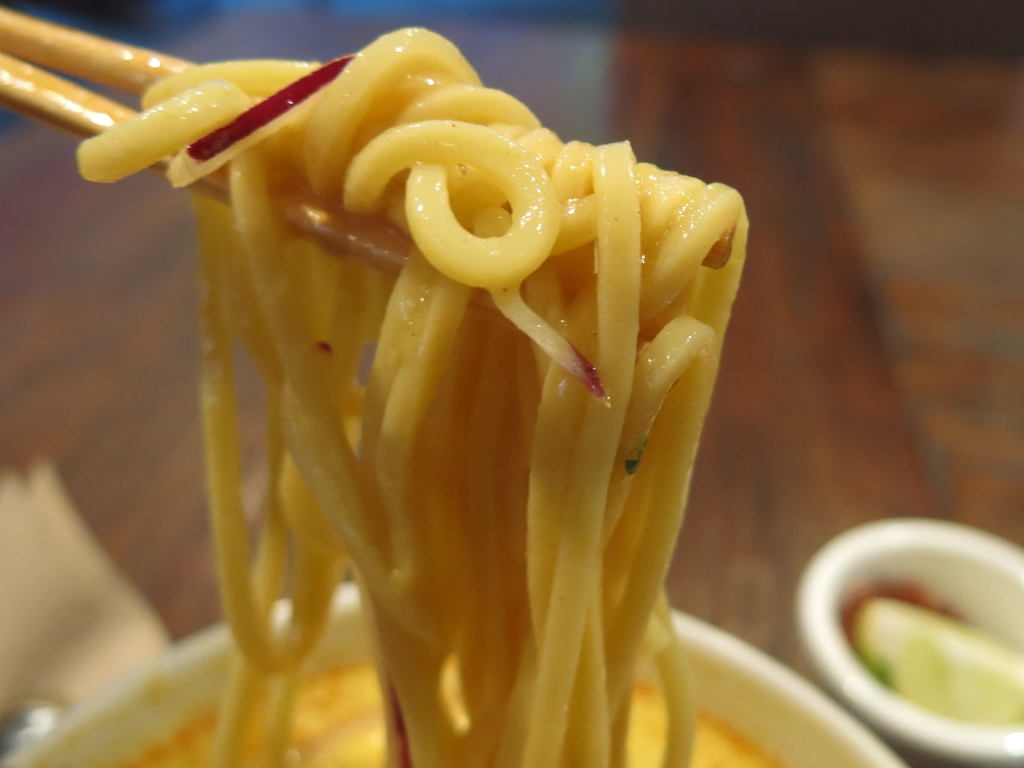pasta: (70, 21, 751, 767)
